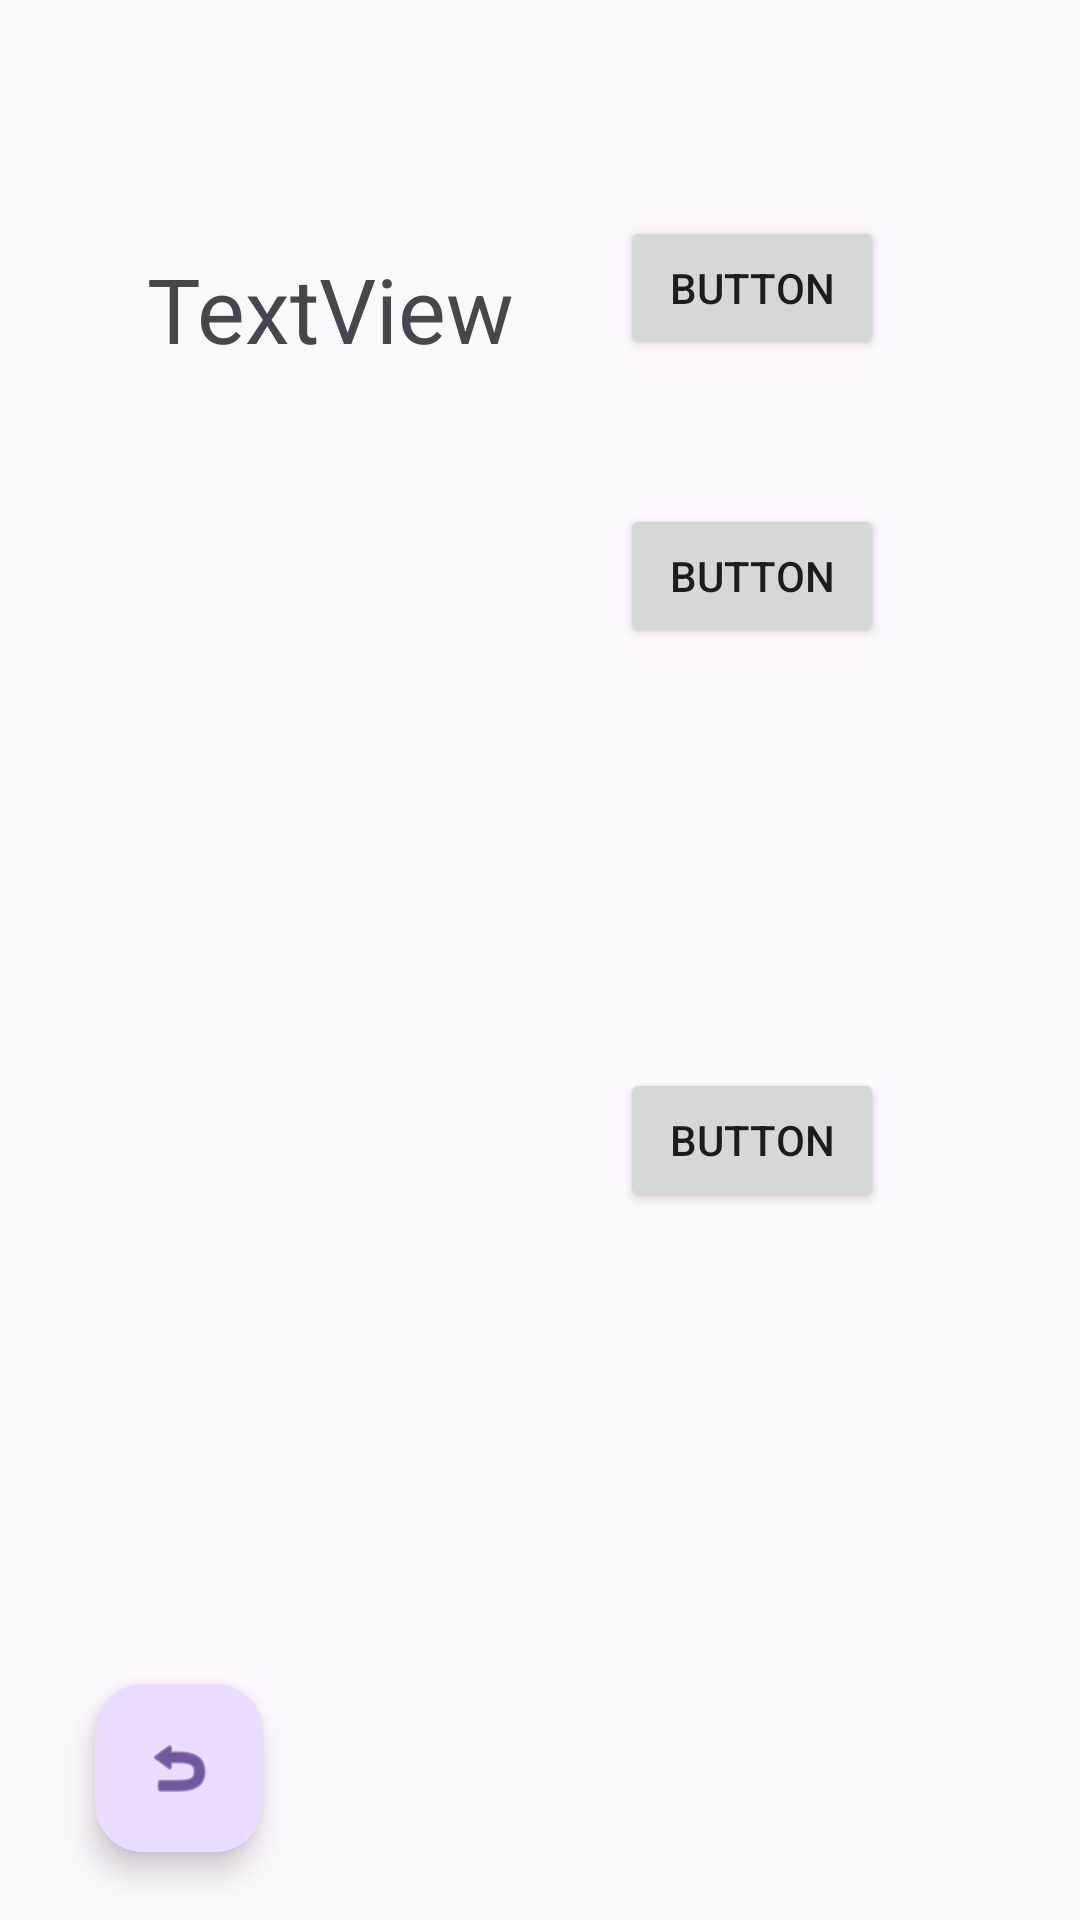

Icon bounding boxes for this 1080 × 1920 phone screenshot, format (x1, y1, x2, y2):
revert: (95, 1684, 263, 1852)
